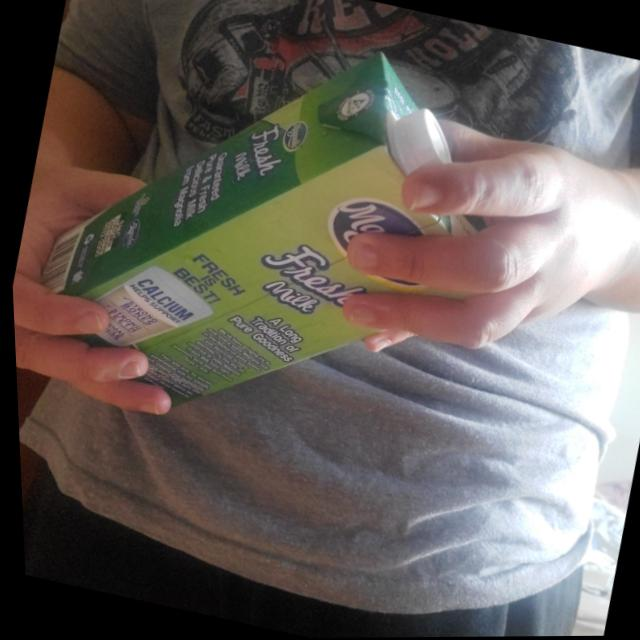milk: (3, 0, 550, 475)
